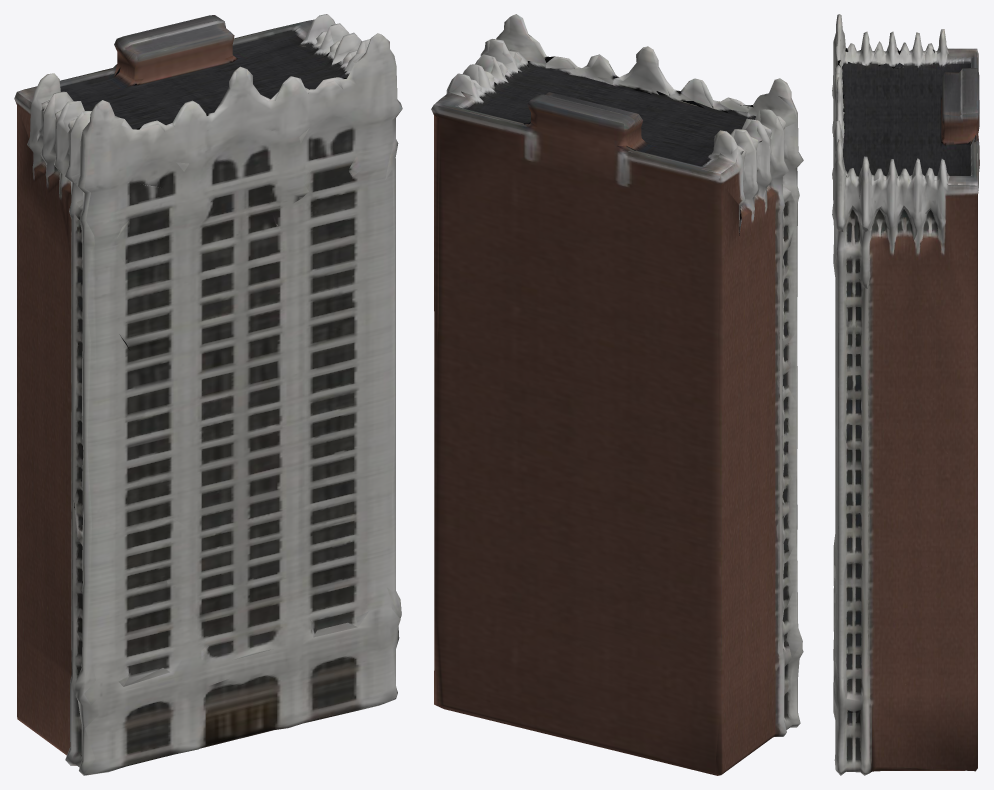
Rendered from century_building.glb.
3 views of the same model, side by side, from view 1: azimuth 30°, elevation 25°; view 2: azimuth 150°, elevation 25°; view 3: azimuth 270°, elevation 25° (orthographic). The views are drawn at different scales.
Visible parts, largest first — view 1: century_building; view 2: century_building; view 3: century_building.
Part boxes in pixels (bbox=[...]): century_building: bbox=[14, 14, 402, 775]; century_building: bbox=[431, 14, 803, 775]; century_building: bbox=[832, 14, 979, 775].
Size of the model in its own units: 31 by 61 by 13.
1 material, 1 textured.
